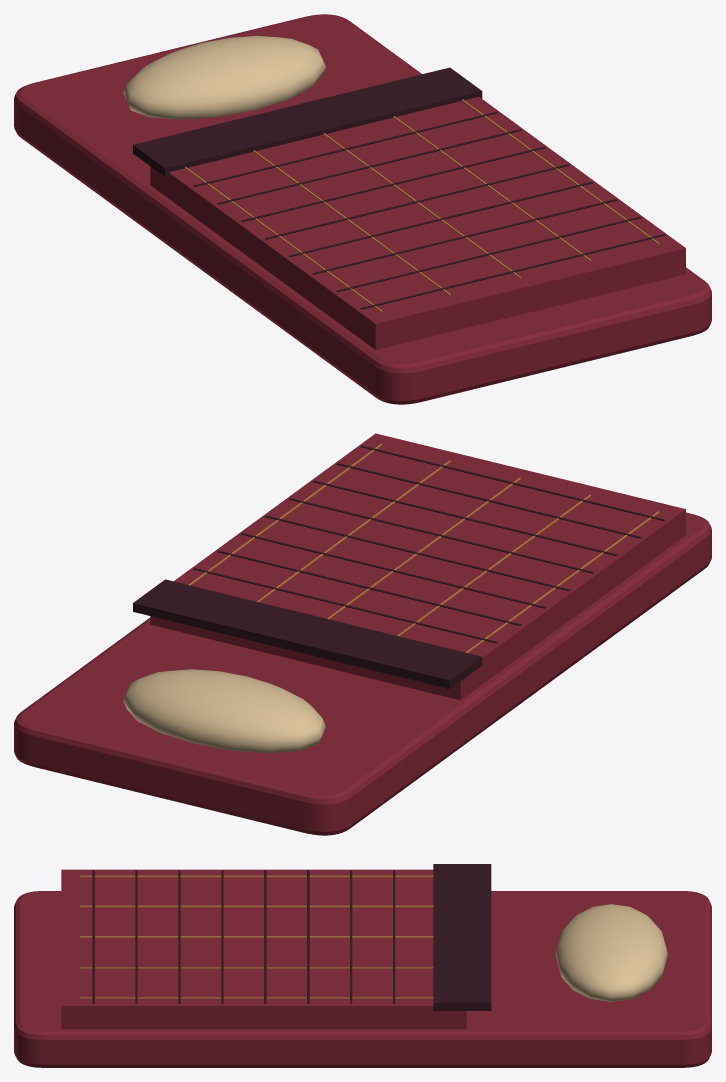
The model's file is mia-futon.glb.
The picture shows the model from 3 angles, top to bottom: view 1: azimuth 30°, elevation 25°; view 2: azimuth 150°, elevation 25°; view 3: azimuth 270°, elevation 25°; orthographic projection. The views are drawn at different scales.
Visible parts, largest first — view 1: Body_velvet, Body_dark, Body_ivory, Body_brass; view 2: Body_velvet, Body_dark, Body_ivory, Body_brass; view 3: Body_velvet, Body_dark, Body_ivory, Body_brass.
Part boxes in pixels (x1,y1,x2,y2): Body_velvet: (14, 14, 711, 404); Body_dark: (133, 67, 665, 309); Body_ivory: (123, 35, 325, 119); Body_brass: (184, 99, 659, 312); Body_velvet: (14, 433, 711, 835); Body_dark: (133, 445, 665, 688); Body_ivory: (123, 669, 325, 753); Body_brass: (188, 443, 659, 652); Body_velvet: (14, 869, 711, 1067); Body_dark: (92, 864, 491, 1010); Body_ivory: (555, 904, 667, 1001); Body_brass: (80, 875, 433, 998).
Bounding box in the file's own units: 0.996 × 0.223 × 2.02.
